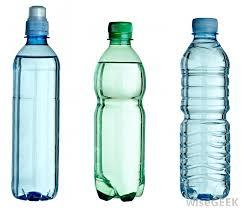Plastic bottle: (8, 3, 67, 203), (93, 9, 150, 205), (177, 14, 236, 202)
